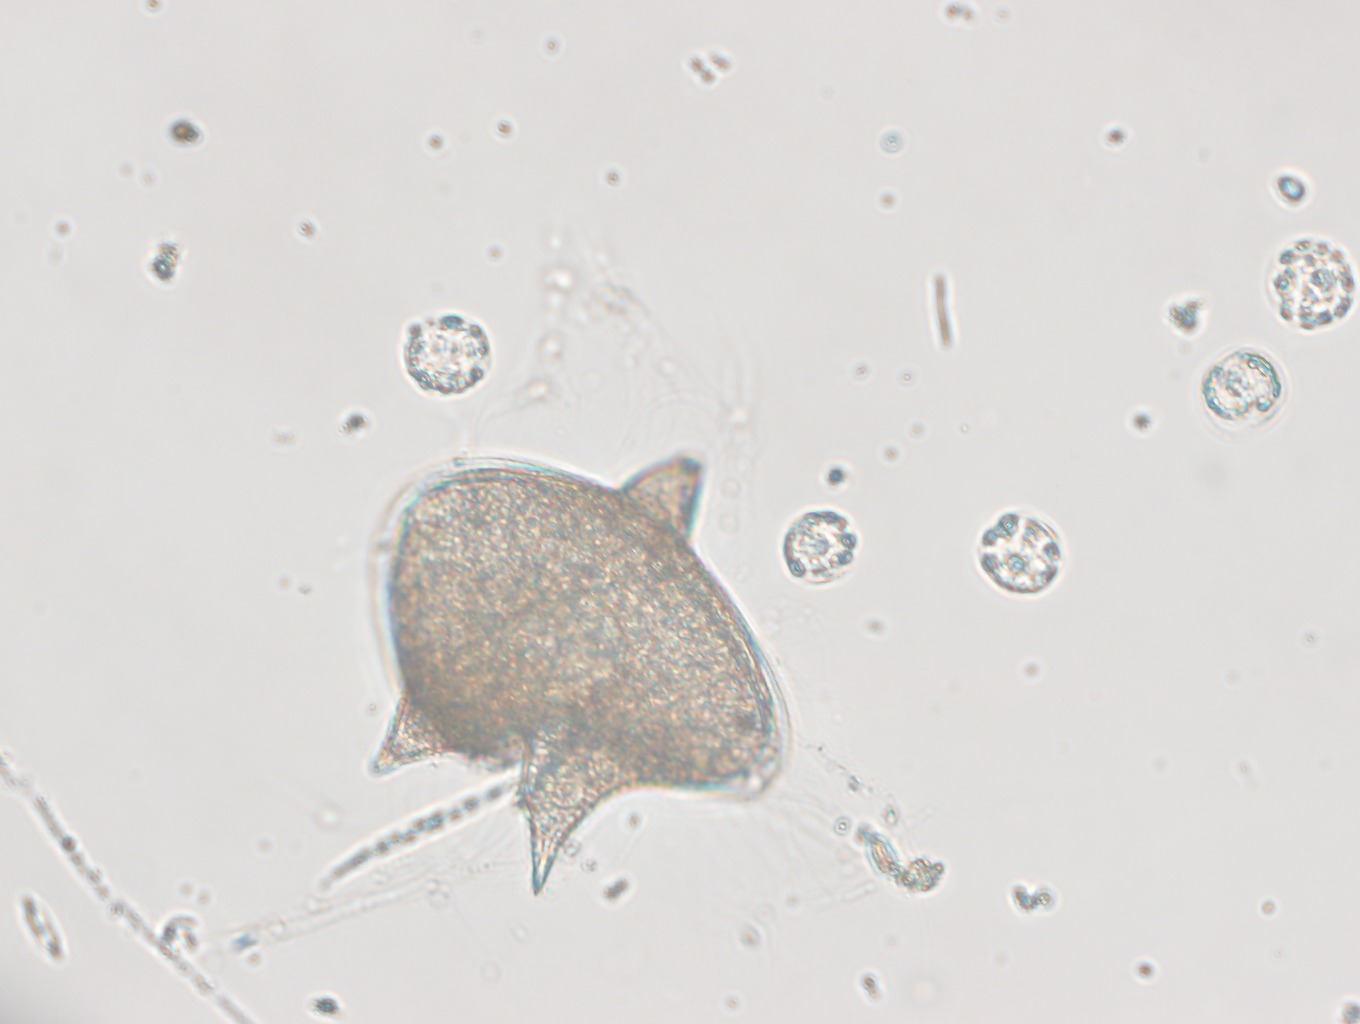protoperidinium: (370, 452, 789, 898)
